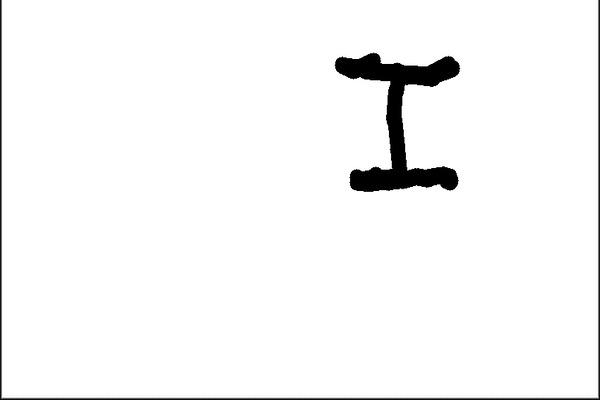i: (327, 45, 464, 203)
